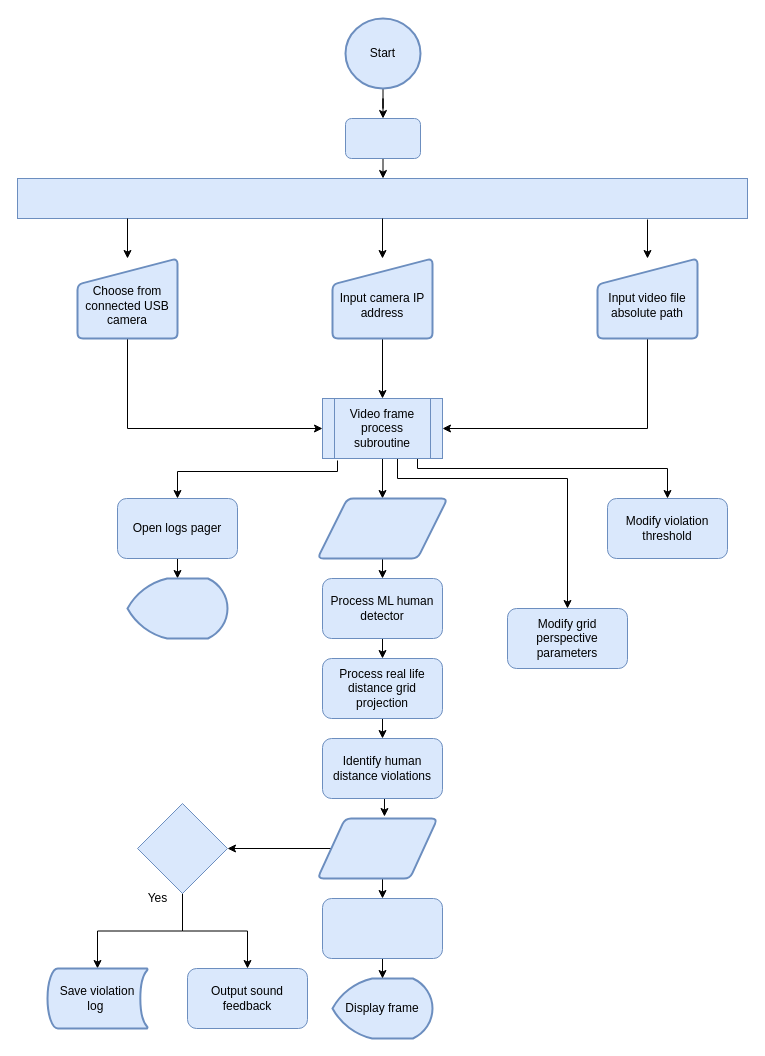
The diagram is 765 pixels wide and 1056 high, and some of its shapes have lost their labels. The shapes that lost their labels are listed below. From the top down, each one's box as (x1, y1, x2, y2) in pixels, then its label:
(344, 118, 420, 158): Load ML Model
(16, 178, 748, 218): USB Camera IP Camera Video File
(316, 497, 448, 559): Fetch frame
(126, 577, 228, 639): Display logs
(136, 802, 228, 894): Has violations
(316, 817, 438, 879): Result
(322, 898, 442, 958): Draw results from ML
